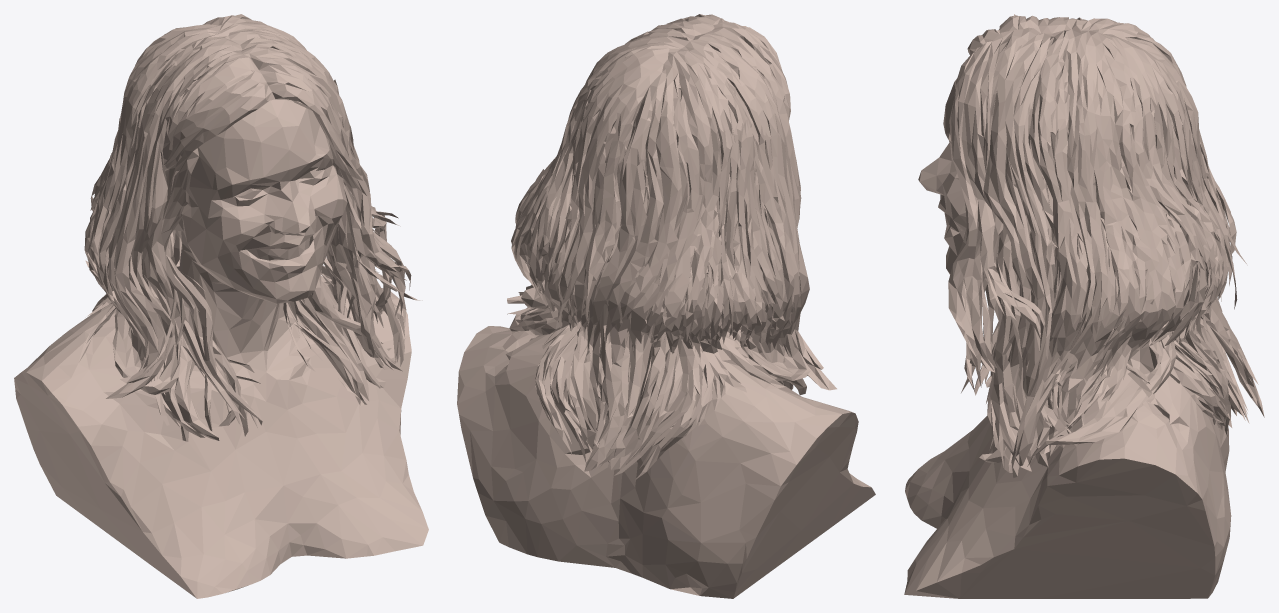
Rendered from mandy_final.glb.
The picture shows the model from 3 angles, left to right: view 1: azimuth 30°, elevation 25°; view 2: azimuth 150°, elevation 25°; view 3: azimuth 270°, elevation 25°; orthographic projection. The views are drawn at different scales.
Parts seen in each view (by area): view 1: geometry_0; view 2: geometry_0; view 3: geometry_0.
Part boxes in pixels (x1=…): geometry_0: x1=14, y1=14, x2=428, y2=598; geometry_0: x1=457, y1=14, x2=875, y2=598; geometry_0: x1=904, y1=14, x2=1264, y2=598.
Bounding box in the file's own units: 1.45 × 1.89 × 1.21.
